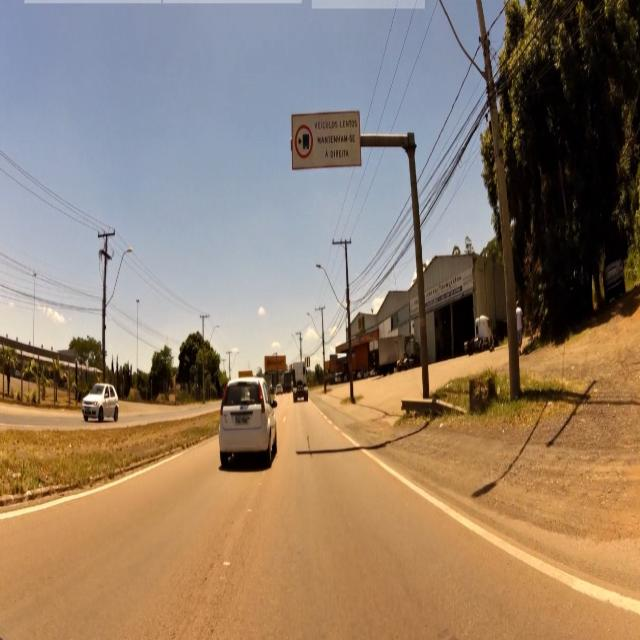R-27: (294, 122, 315, 160)
